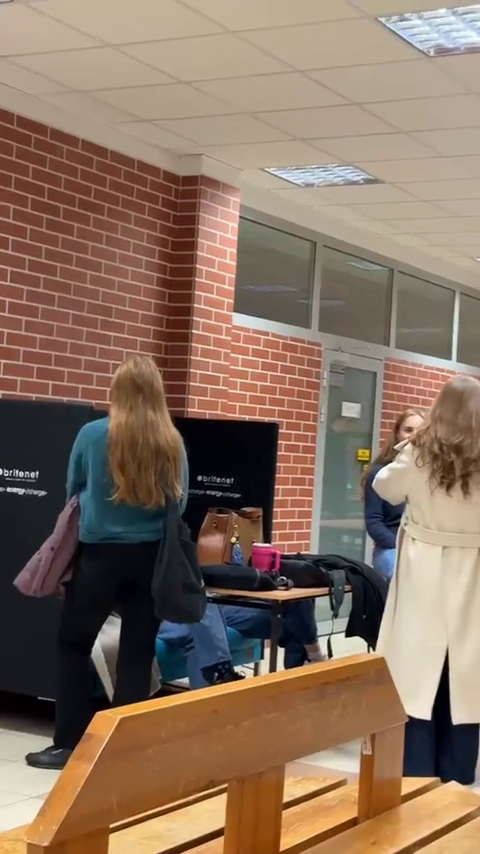no vest: (69, 340, 197, 699), (384, 375, 480, 727)
